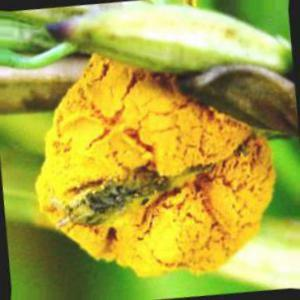Leaf_Scald: (55, 74, 191, 226), (75, 188, 233, 267), (198, 106, 266, 242)
